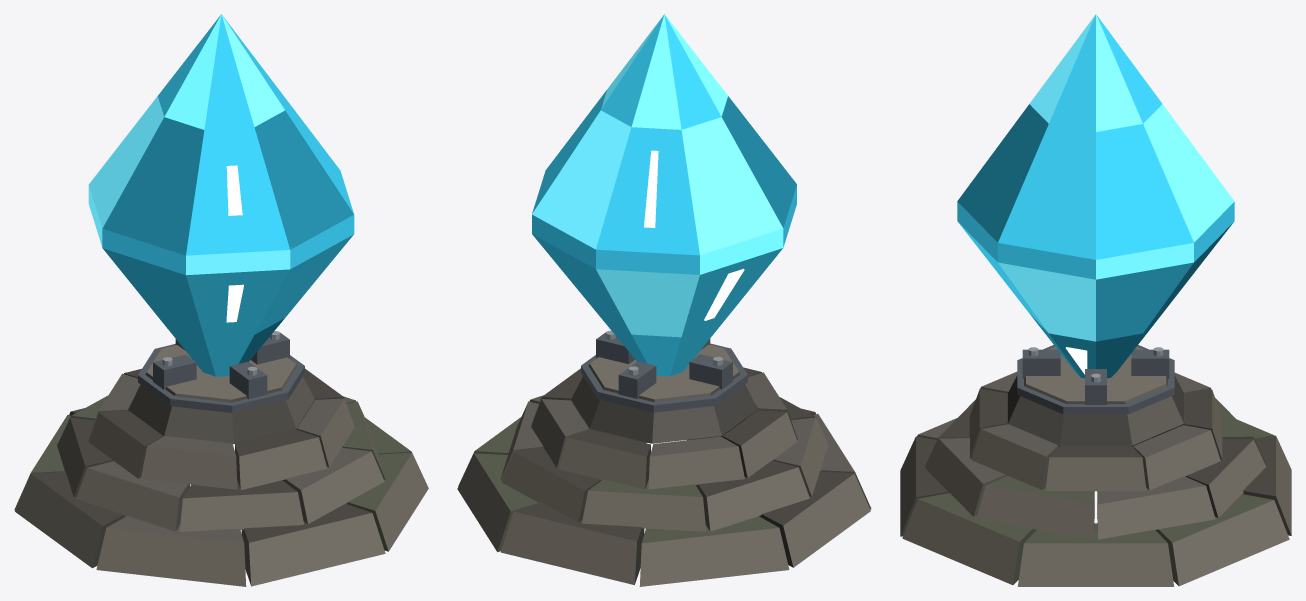
File: mdl_crystal_core_v1.glb
3 views of the same model, side by side, from view 1: azimuth 30°, elevation 25°; view 2: azimuth 150°, elevation 25°; view 3: azimuth 270°, elevation 25° (orthographic).
Parts seen in each view (by area): view 1: GEO_Base_Steps, GEO_Crystal_Diamond; view 2: GEO_Base_Steps, GEO_Crystal_Diamond; view 3: GEO_Base_Steps, GEO_Crystal_Diamond.
Part boxes in pixels (x1,y1,x2,y2): GEO_Base_Steps: (14,331,428,586); GEO_Crystal_Diamond: (88,14,354,376); GEO_Base_Steps: (457,330,871,586); GEO_Crystal_Diamond: (532,14,796,376); GEO_Base_Steps: (900,345,1291,586); GEO_Crystal_Diamond: (957,14,1234,378).
Size of the model in its own units: 2.88 by 3.98 by 2.88.
